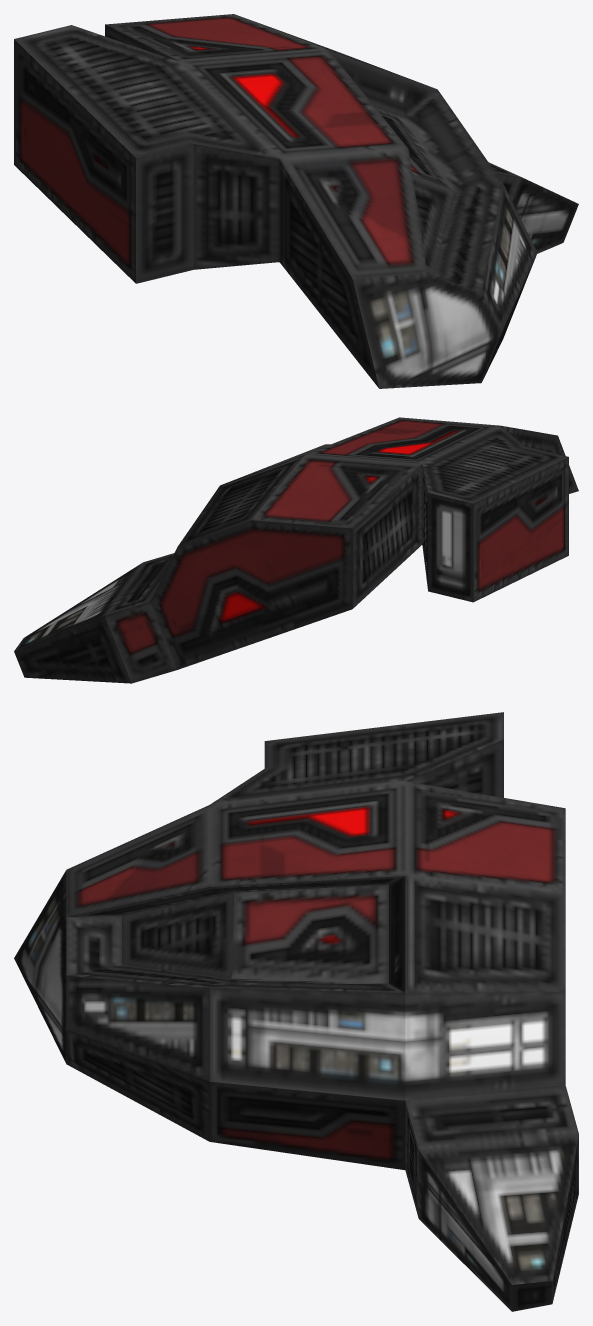
Rendered from BFP_ConstForwardBHull01_Left.FBX.
3 views of the same model, one above another, from view 1: azimuth 30°, elevation 25°; view 2: azimuth 150°, elevation 25°; view 3: azimuth 270°, elevation 25° (orthographic). The views are drawn at different scales.
Visible parts, largest first — view 1: BFP_ConstForwardBHull01_Left; view 2: BFP_ConstForwardBHull01_Left; view 3: BFP_ConstForwardBHull01_Left.
Part boxes in pixels (x1,y1,x2,y2): BFP_ConstForwardBHull01_Left: [14, 14, 578, 388]; BFP_ConstForwardBHull01_Left: [14, 417, 578, 683]; BFP_ConstForwardBHull01_Left: [14, 712, 578, 1311].
Size of the model in its own units: 197 by 113 by 173.
1 material, 1 textured.
